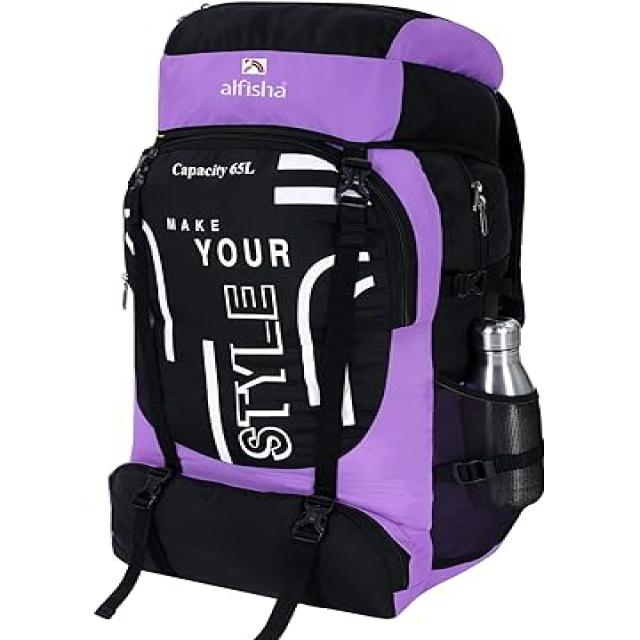backpack: (76, 1, 568, 640)
